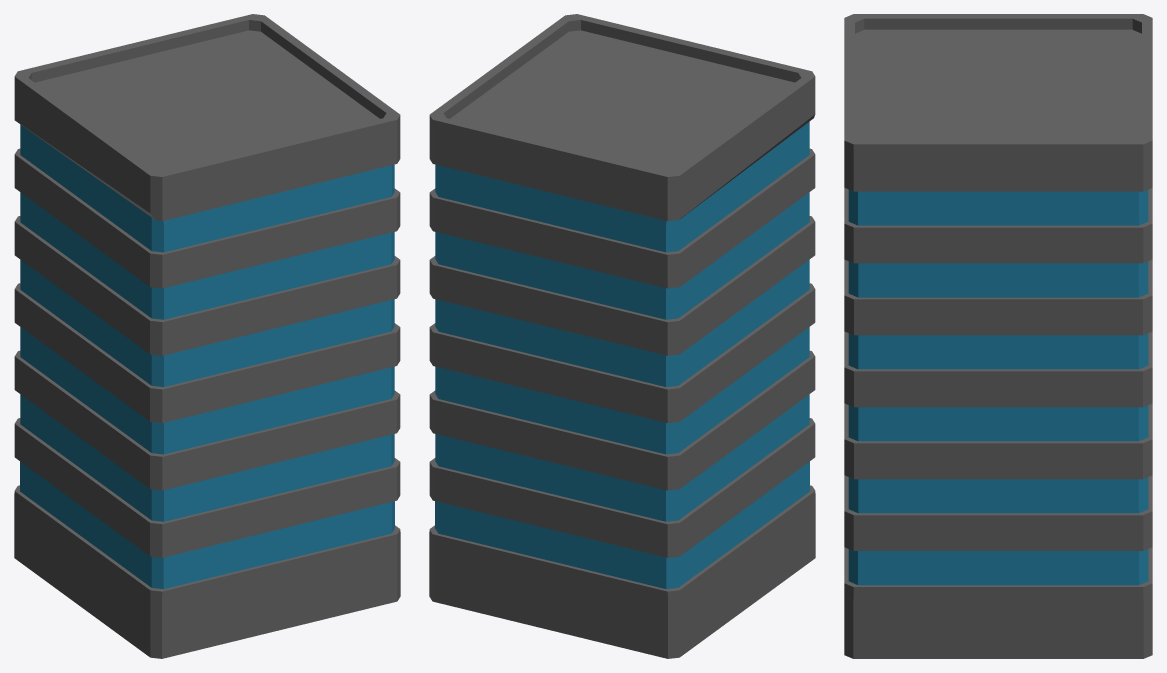
The model's file is D_biurowiec1.fbx.
3 renders of one model, left to right at view 1: azimuth 30°, elevation 25°; view 2: azimuth 150°, elevation 25°; view 3: azimuth 270°, elevation 25°, orthographic. The views are drawn at different scales.
Parts seen in each view (by area): view 1: biurowiec1.001, biurowiec1.006, biurowiec1.009, biurowiec1.014, biurowiec1.013, biurowiec1.017, biurowiec1.004, biurowiec1.029, biurowiec1.026, biurowiec1.027, biurowiec1.003, biurowiec1.007 (+7 smaller); view 2: biurowiec1.004, biurowiec1.027, biurowiec1.007, biurowiec1.013, biurowiec1.021, biurowiec1.017, biurowiec1.029, biurowiec1.026, biurowiec1.001, biurowiec1.018, biurowiec1.022, biurowiec1.011 (+6 smaller); view 3: biurowiec1.015, biurowiec1.010, biurowiec1.002, biurowiec1.016, biurowiec1.029, biurowiec1.017, biurowiec1.005, biurowiec1.001, biurowiec1.009, biurowiec1.003, biurowiec1.027, biurowiec1.019.
Part boxes in pixels (x1,y1,x2,y2): biurowiec1.001: [149, 119, 400, 303]; biurowiec1.006: [144, 303, 309, 547]; biurowiec1.009: [208, 258, 400, 465]; biurowiec1.014: [141, 505, 395, 658]; biurowiec1.013: [14, 127, 150, 432]; biurowiec1.017: [14, 59, 226, 173]; biurowiec1.004: [14, 240, 101, 499]; biurowiec1.029: [178, 53, 400, 142]; biurowiec1.026: [40, 502, 144, 650]; biurowiec1.027: [68, 14, 254, 70]; biurowiec1.003: [310, 410, 400, 505]; biurowiec1.007: [14, 461, 75, 576]; biurowiec1.004: [523, 320, 767, 556]; biurowiec1.027: [432, 117, 651, 320]; biurowiec1.007: [444, 468, 733, 658]; biurowiec1.013: [614, 122, 813, 404]; biurowiec1.021: [434, 277, 613, 467]; biurowiec1.017: [532, 98, 769, 249]; biurowiec1.029: [481, 14, 712, 118]; biurowiec1.026: [705, 466, 807, 638]; biurowiec1.001: [577, 14, 815, 121]; biurowiec1.018: [439, 421, 522, 590]; biurowiec1.022: [767, 234, 812, 435]; biurowiec1.011: [739, 404, 808, 512]; biurowiec1.015: [967, 119, 1152, 448]; biurowiec1.010: [844, 459, 1087, 658]; biurowiec1.002: [958, 458, 1152, 658]; biurowiec1.016: [848, 165, 1027, 456]; biurowiec1.029: [844, 59, 1073, 228]; biurowiec1.017: [933, 14, 1152, 118]; biurowiec1.005: [956, 308, 1152, 459]; biurowiec1.001: [844, 14, 932, 266]; biurowiec1.009: [844, 259, 955, 459]; biurowiec1.003: [844, 458, 952, 535]; biurowiec1.027: [1074, 44, 1152, 294]; biurowiec1.019: [854, 14, 957, 58].
Bounding box in the file's own units: 500 × 920 × 500.
